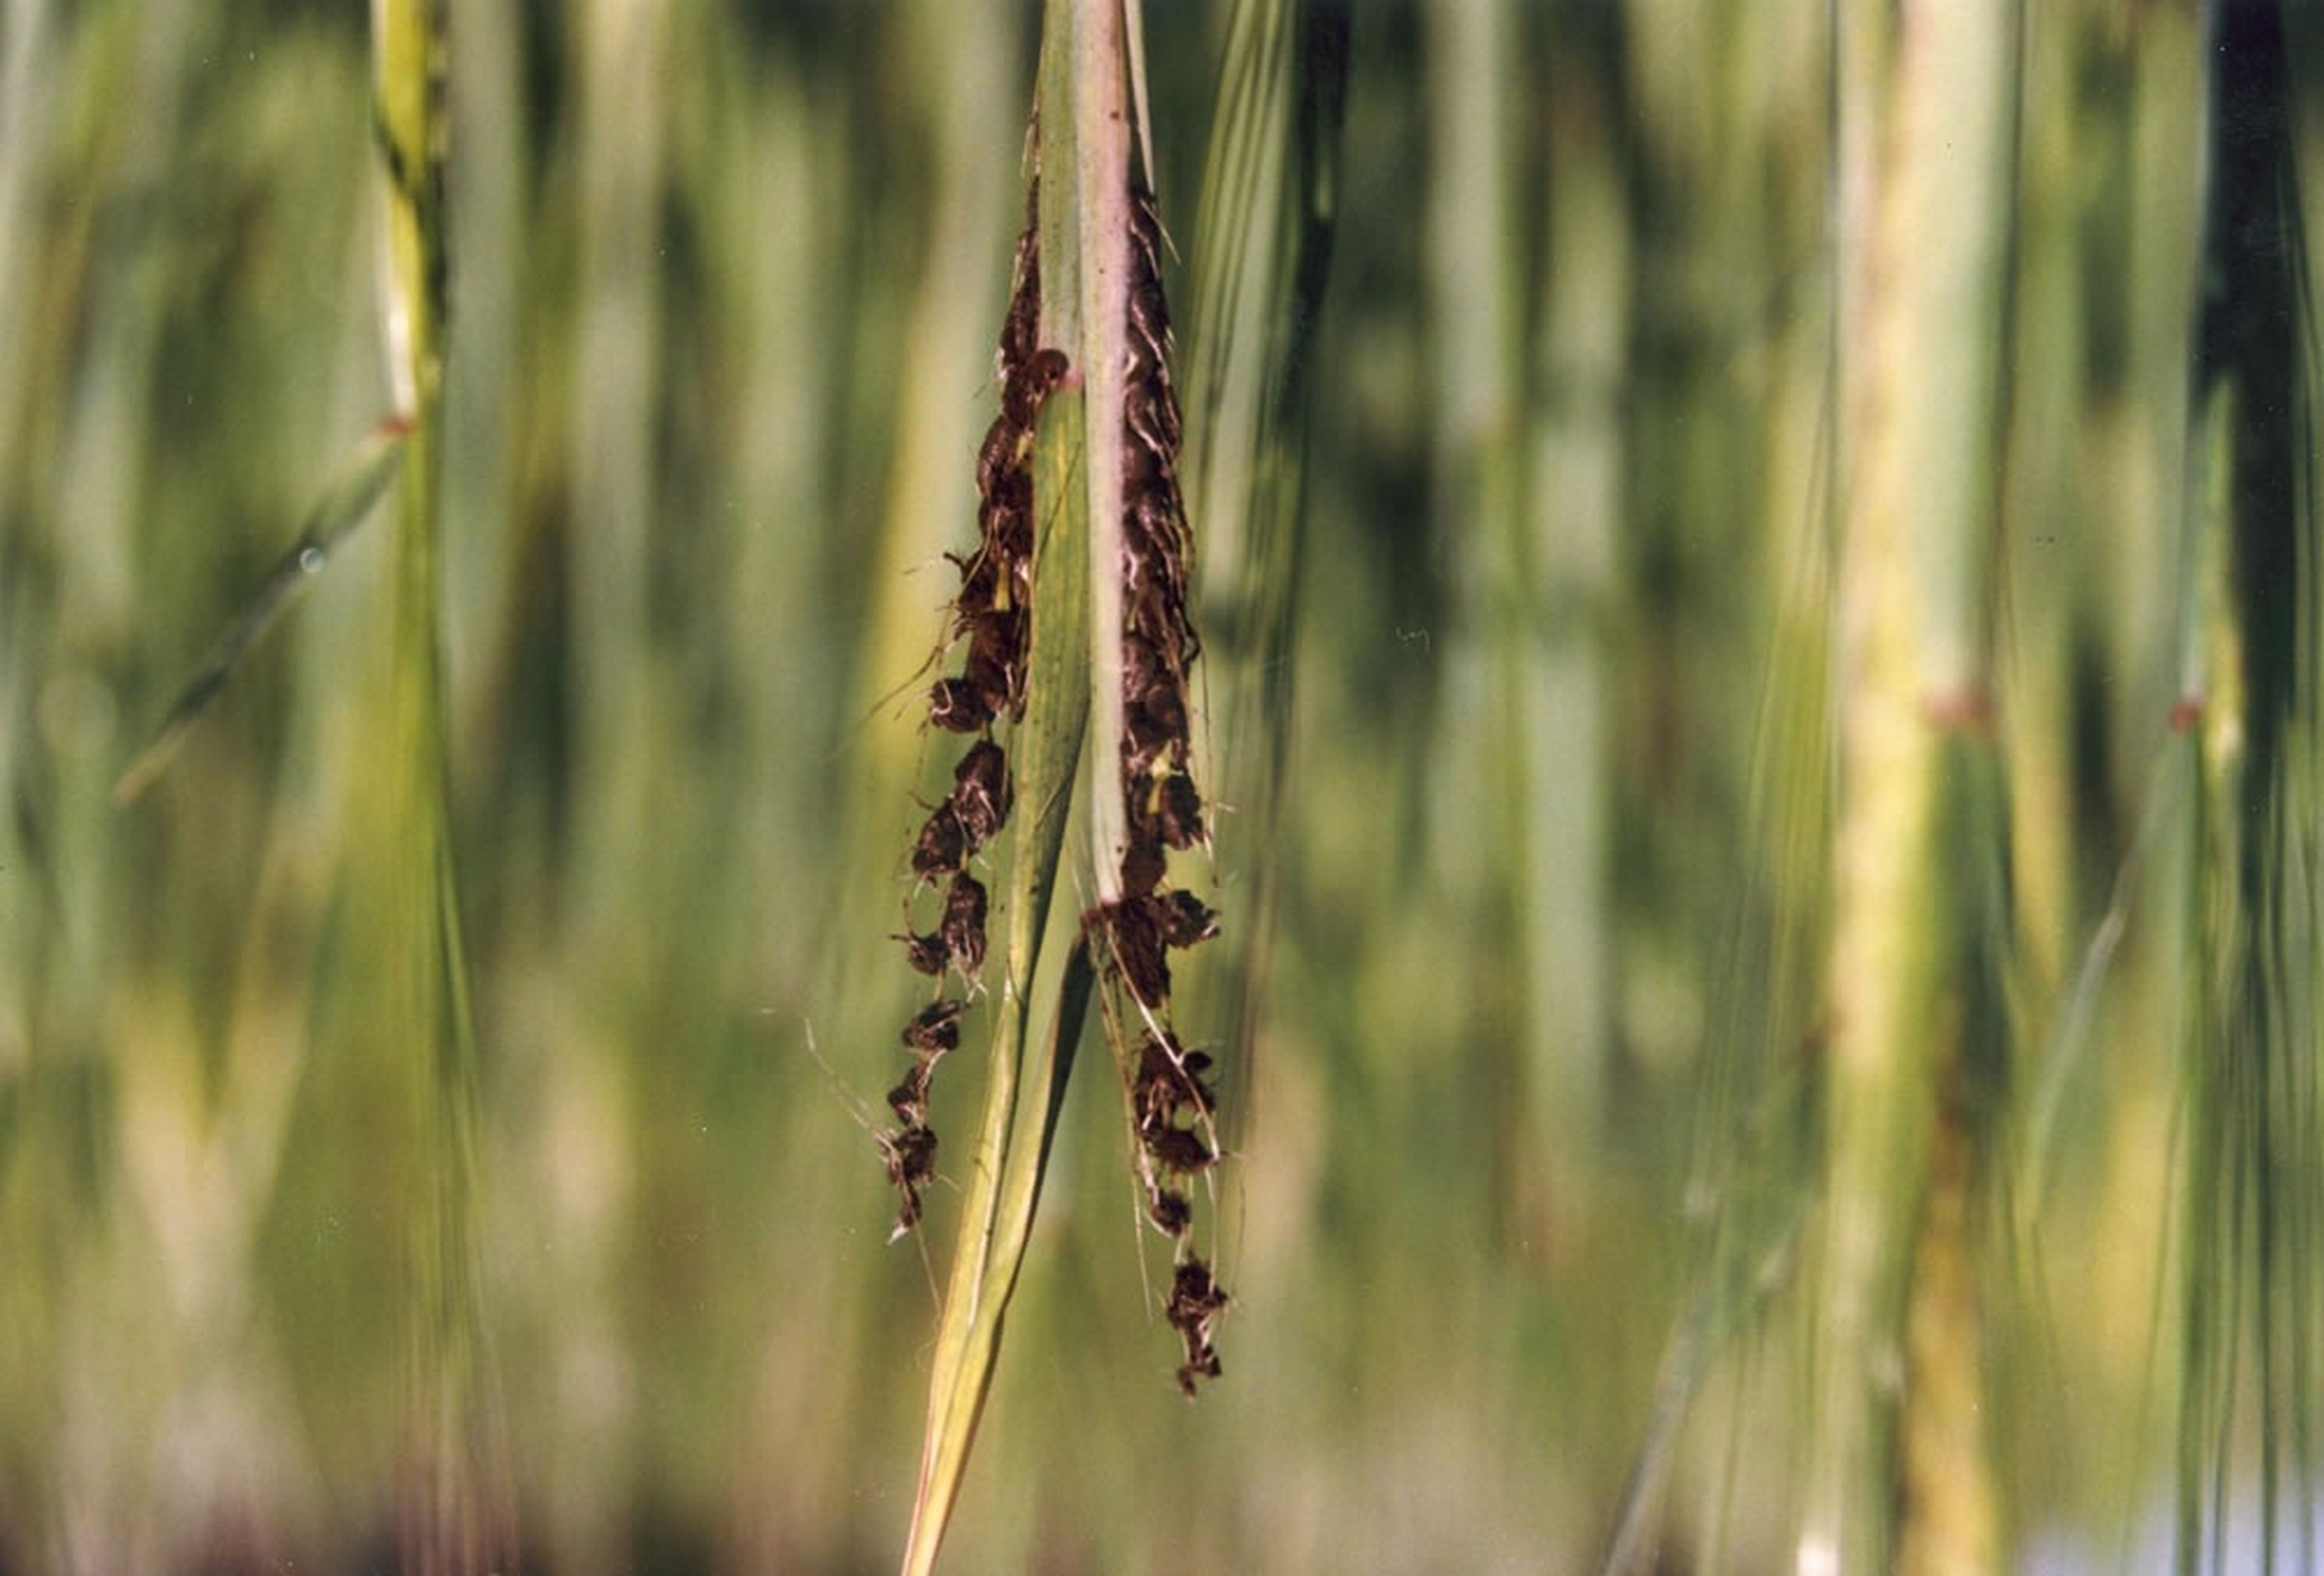Wheat Loose Smut: (823, 164, 1278, 1397)
